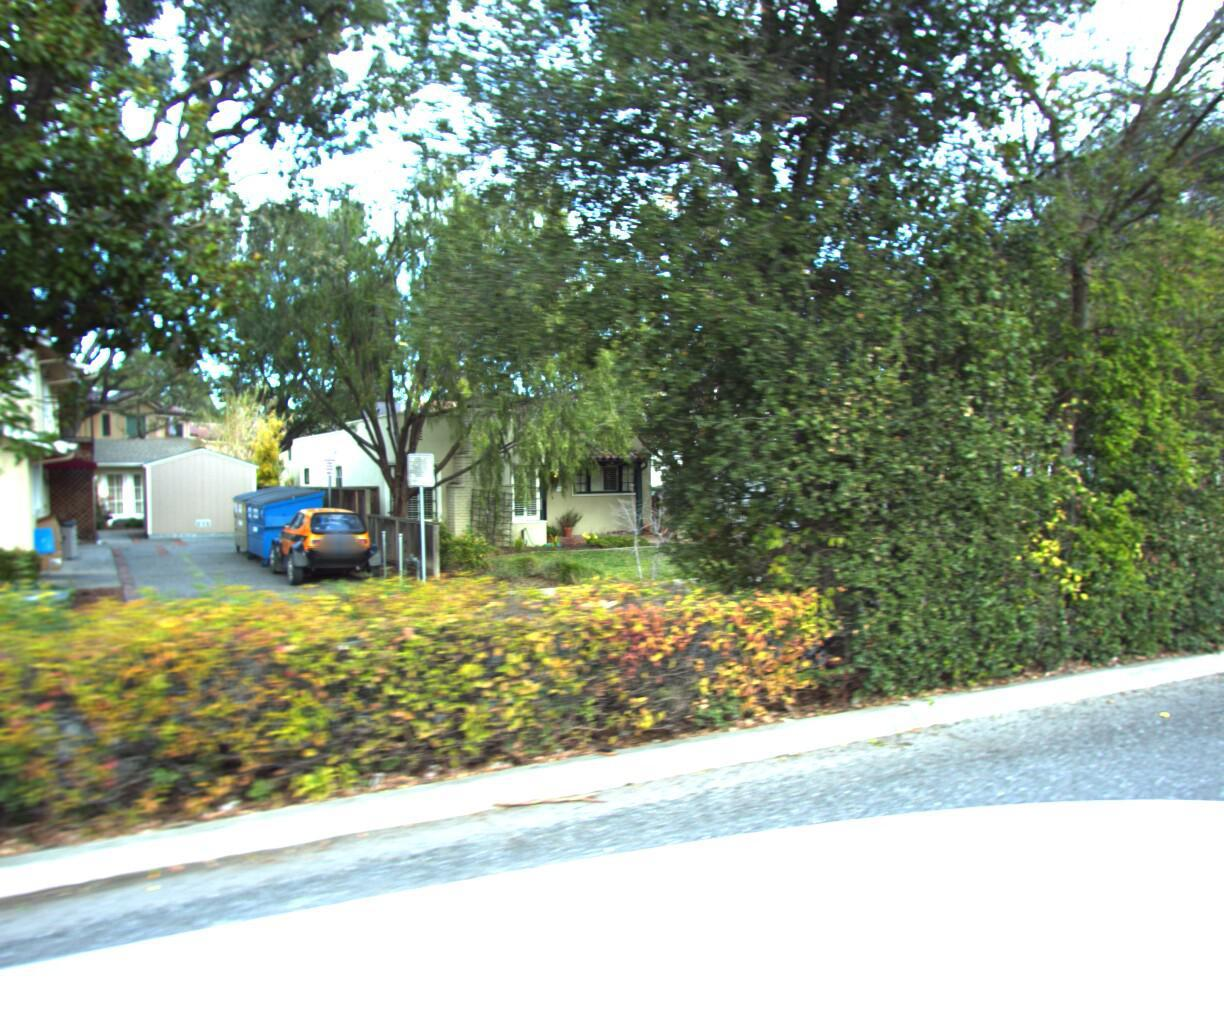car: (256, 501, 381, 590)
